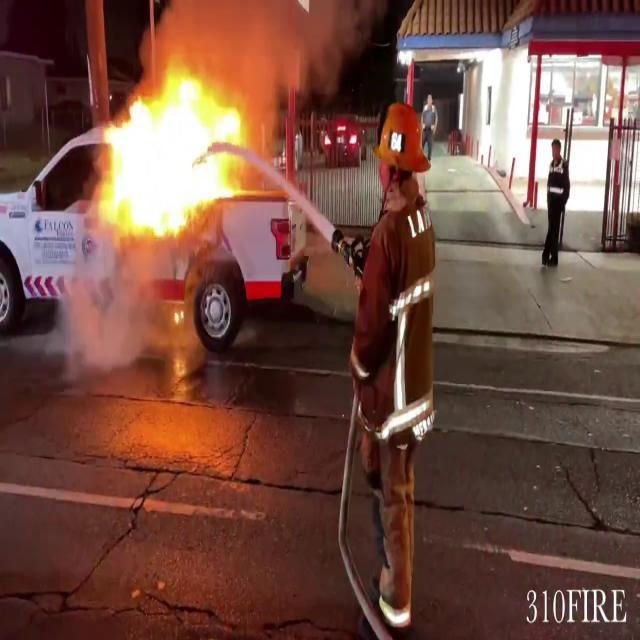Fire: (92, 56, 252, 243)
Smoke: (158, 0, 364, 100)
